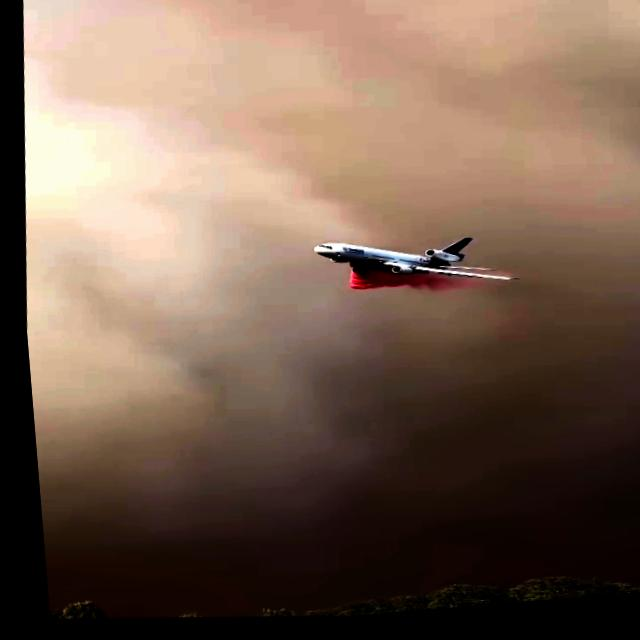Smoke: (21, 284, 640, 625), (5, 0, 640, 282)
